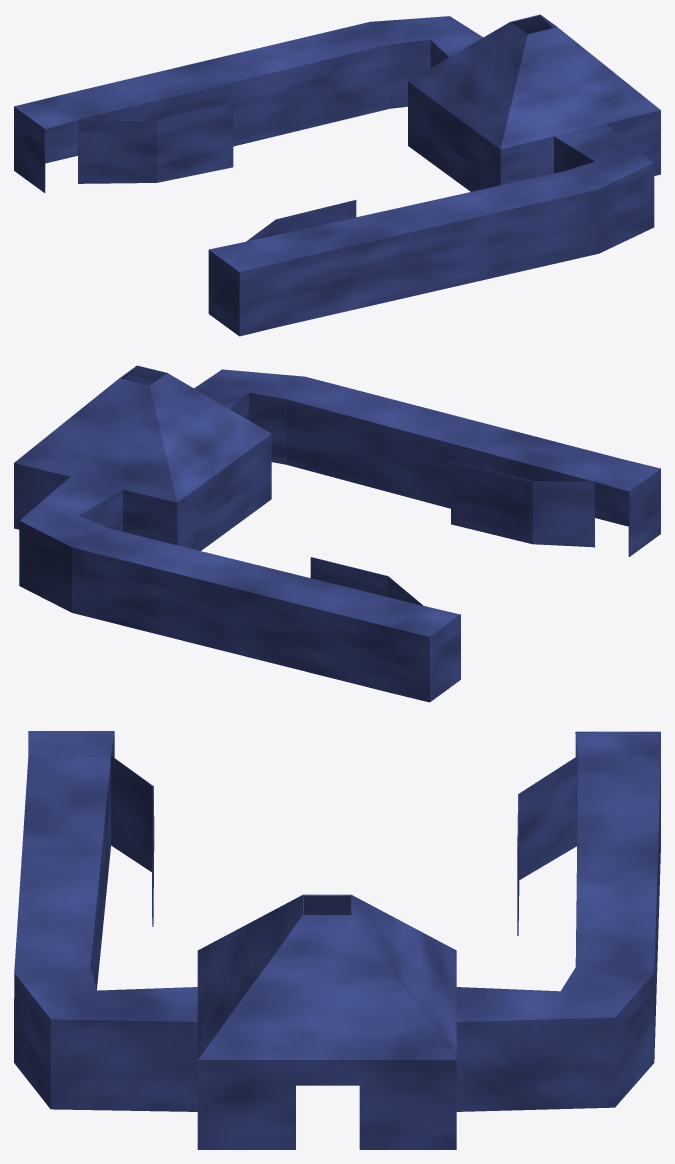
Rendered from spawn2.dae.
The picture shows the model from 3 angles, top to bottom: view 1: azimuth 30°, elevation 25°; view 2: azimuth 150°, elevation 25°; view 3: azimuth 270°, elevation 25°; orthographic projection. The views are drawn at different scales.
Parts seen in each view (by area): view 1: Cube; view 2: Cube; view 3: Cube.
Boxes of the visible parts, x1,y1,x2,y2 form: Cube: (14,14,660,336); Cube: (14,365,660,702); Cube: (14,731,660,1149).
Bounding box in the file's own units: 6.01 × 5 × 1.62.
1 material, 1 textured.
